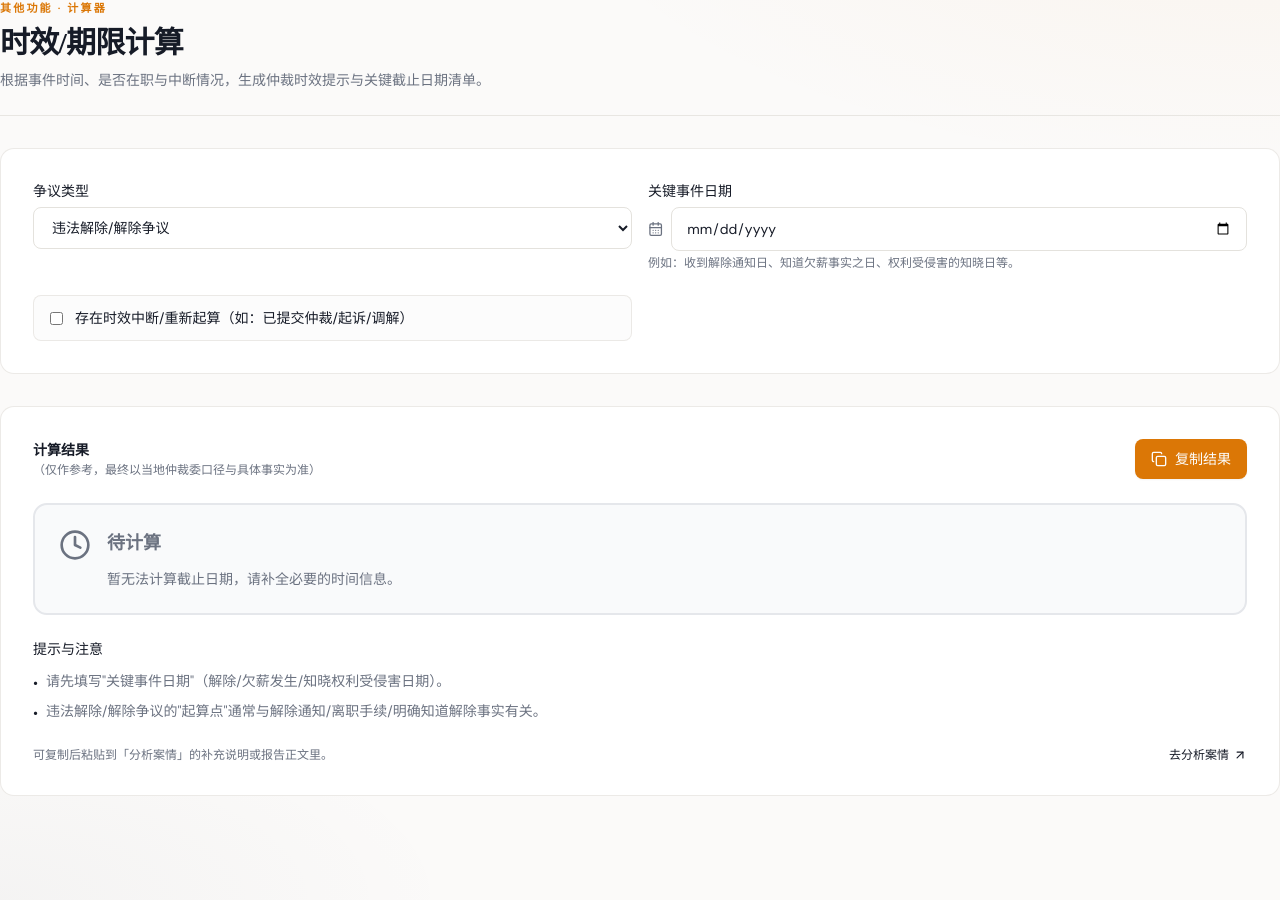
Test: LimitationCalculator › shows tips for wage_in_service when still employed
Select "在职欠薪（劳动关系存续）" in the dropdown. click: (332,228)
box: [33,207,632,249]
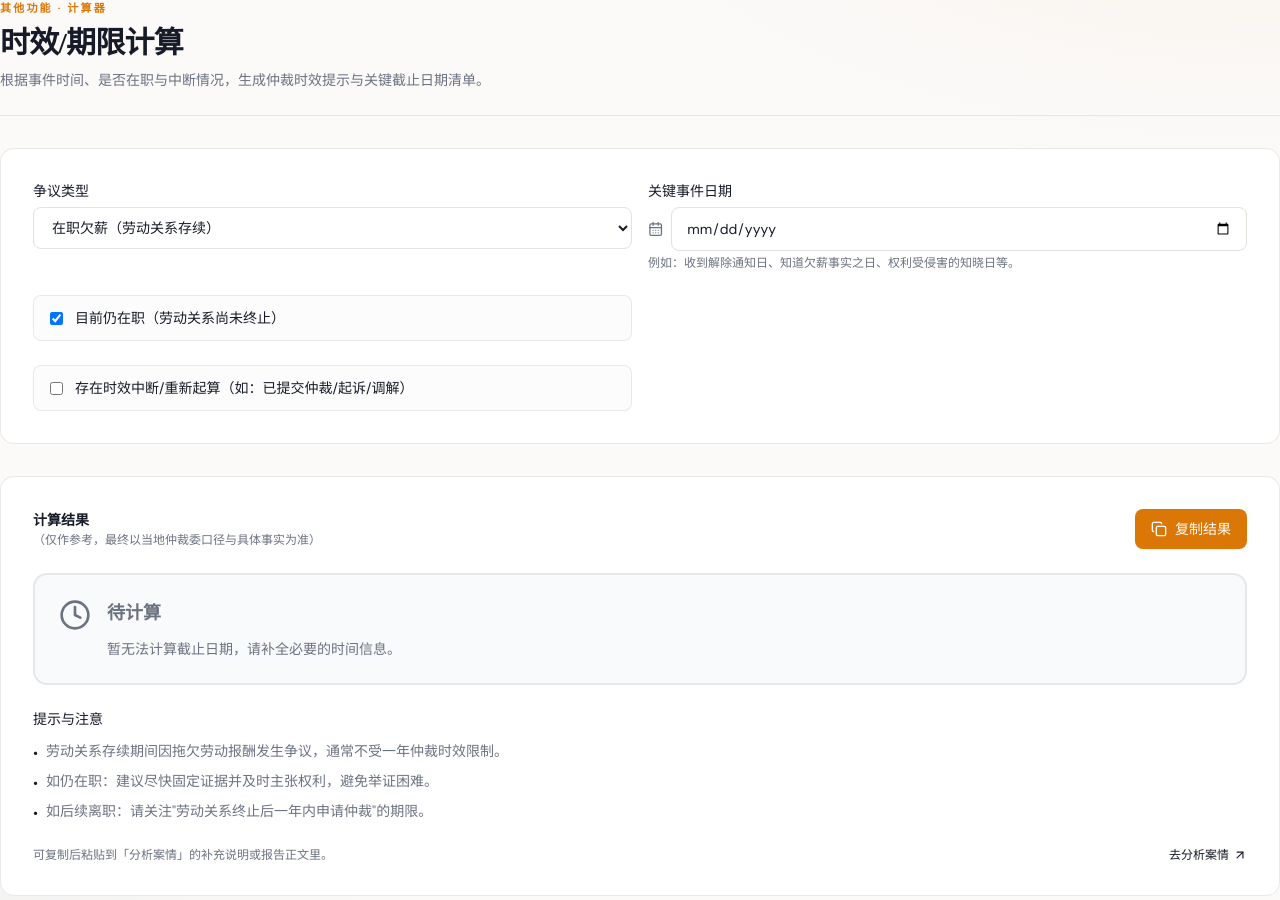
Expected: the text "劳动关系存续期间因拖欠劳动报酬发生争议，通常不受一年仲裁时效限制。" is shown, [46,741,508,761]
